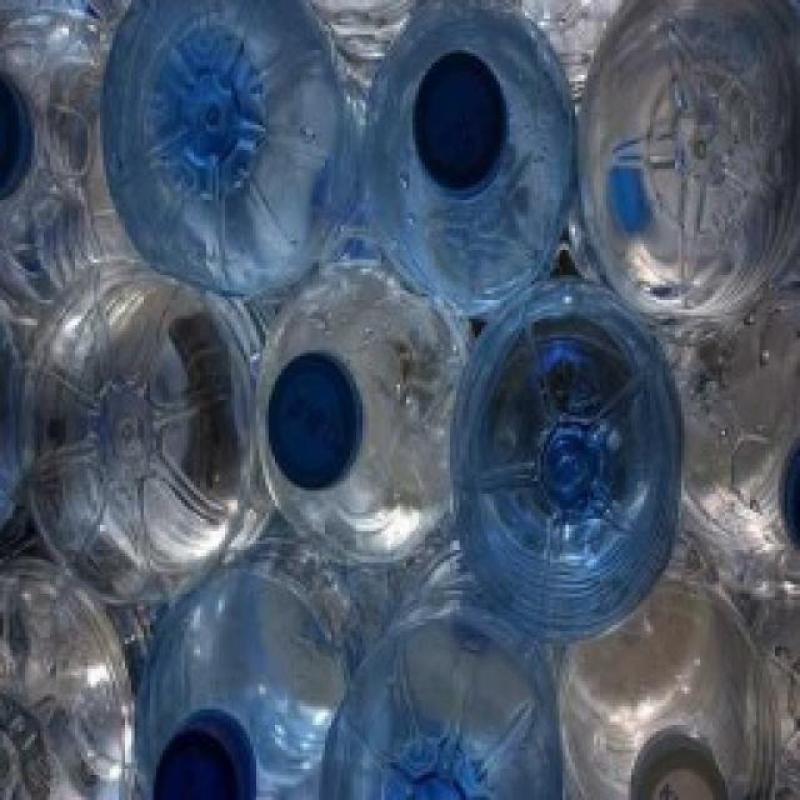botella: (450, 272, 685, 647), (25, 264, 273, 608), (101, 0, 366, 290), (577, 0, 800, 325), (138, 517, 388, 798), (370, 0, 582, 319), (258, 258, 470, 564), (320, 546, 570, 800), (558, 525, 770, 800), (0, 546, 169, 800), (0, 0, 135, 310), (677, 285, 800, 566), (0, 314, 65, 551), (746, 584, 800, 800)
